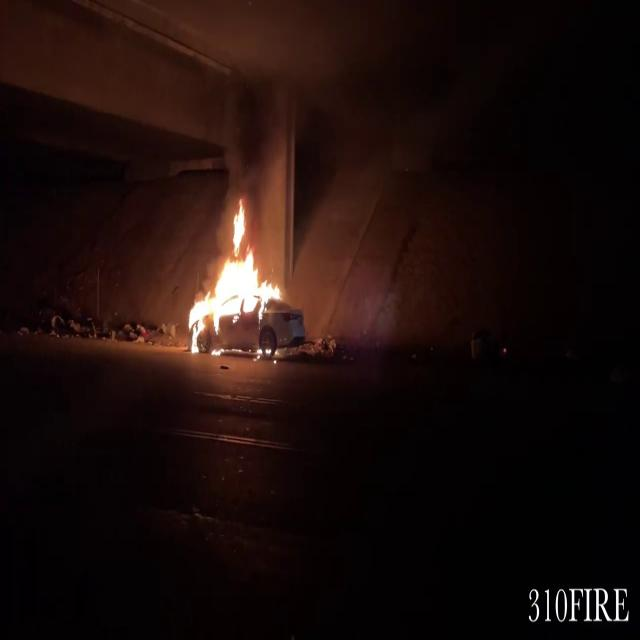Fire: (183, 209, 290, 365)
Smoke: (212, 68, 297, 217)
